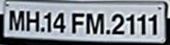character: (85, 12, 104, 35), (8, 9, 25, 31), (25, 10, 39, 32), (52, 11, 65, 33), (71, 12, 84, 33), (111, 13, 124, 34), (136, 13, 146, 36), (147, 13, 157, 35), (126, 13, 135, 34), (43, 11, 51, 33)
